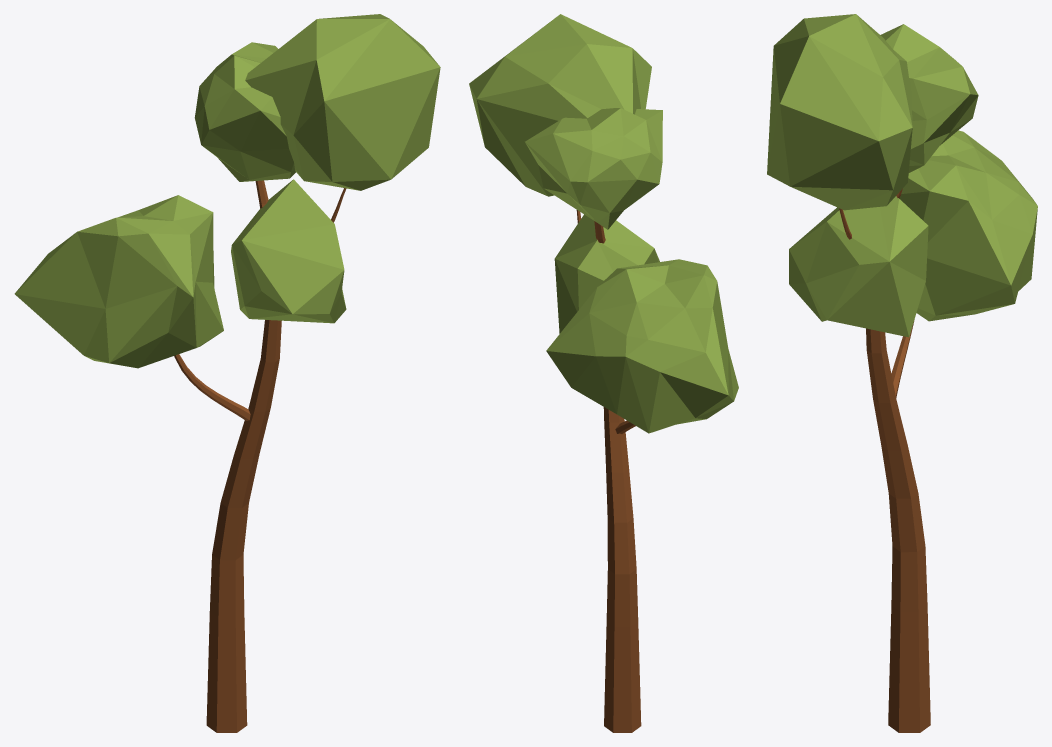
The model's file is Drzewo1.fbx.
3 views of the same model, side by side, from view 1: azimuth 30°, elevation 25°; view 2: azimuth 150°, elevation 25°; view 3: azimuth 270°, elevation 25° (orthographic). The views are drawn at different scales.
Parts seen in each view (by area): view 1: Cube; view 2: Cube; view 3: Cube.
Part boxes in pixels (x1=…): Cube: x1=14, y1=14, x2=440, y2=732; Cube: x1=469, y1=14, x2=738, y2=732; Cube: x1=767, y1=14, x2=1037, y2=732.
Size of the model in its own units: 1160 by 2284 by 750.
